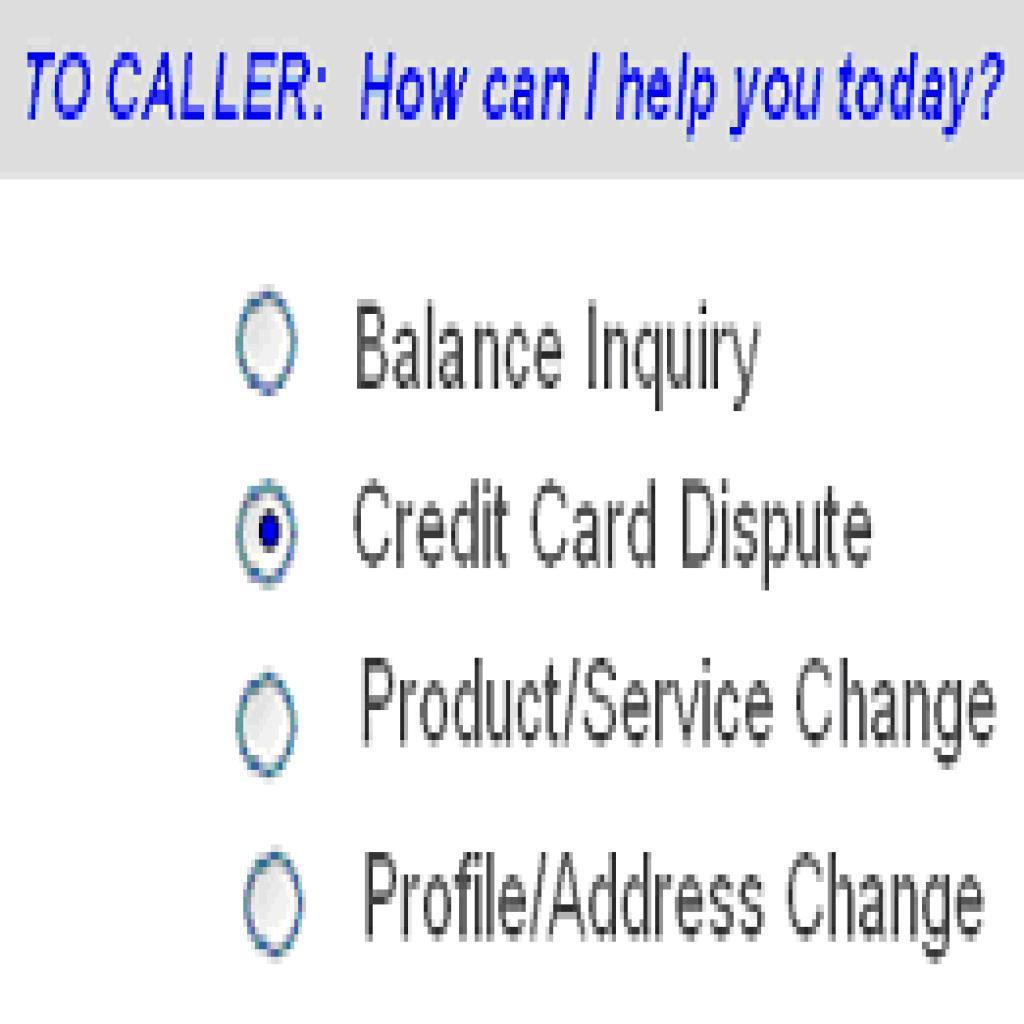radio: (237, 843, 312, 965), (228, 287, 308, 399), (233, 474, 303, 594), (228, 672, 305, 781)
